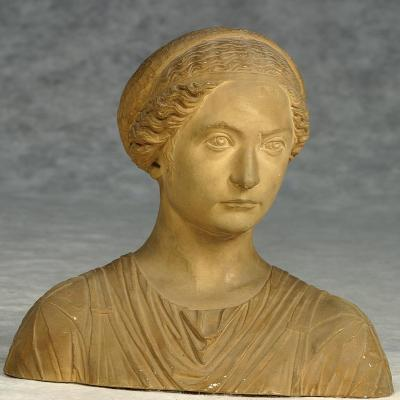sculpture: (4, 28, 394, 400)
